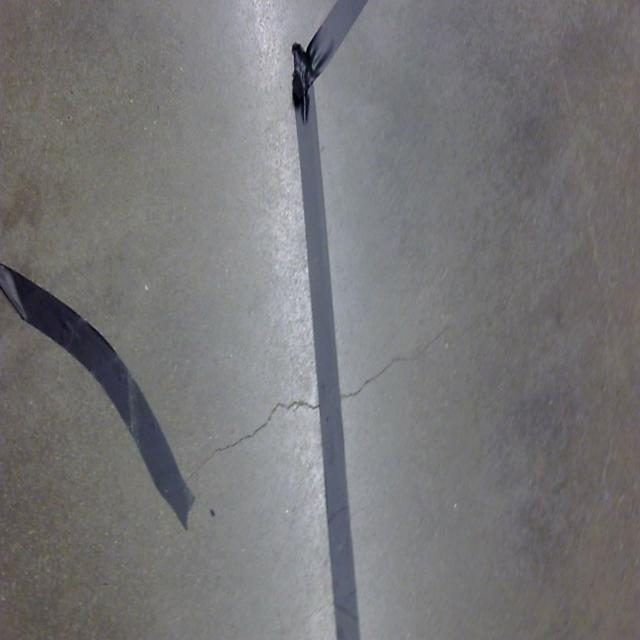tape: (266, 0, 386, 640), (0, 218, 218, 565)
